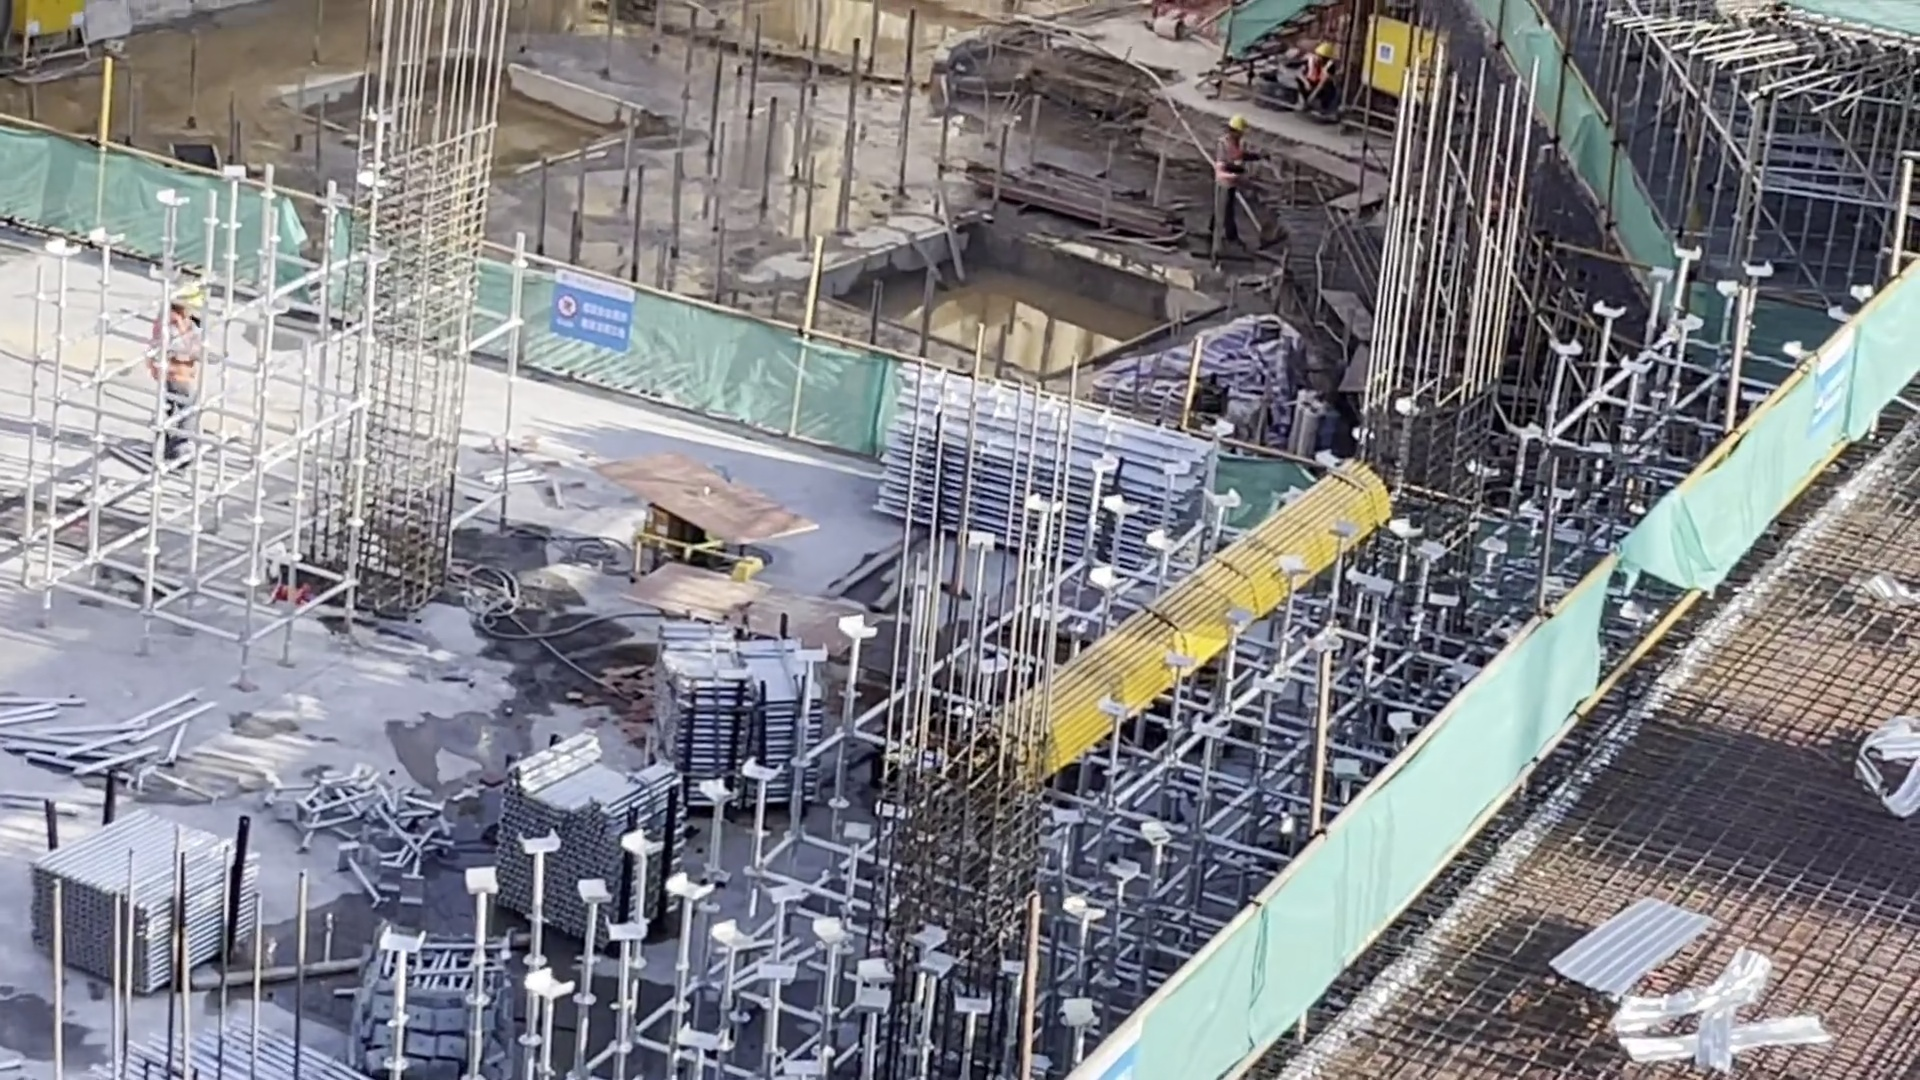cutter: (656, 573, 869, 659), (619, 464, 780, 576)
ebox: (1371, 26, 1439, 111), (25, 1, 91, 56)
helmet: (170, 288, 205, 311), (1321, 46, 1335, 60), (1232, 114, 1242, 131)
person: (152, 287, 201, 448), (1210, 122, 1251, 254), (1282, 39, 1341, 117)
scaffold: (932, 421, 1188, 531), (59, 835, 276, 952), (501, 769, 664, 923), (661, 664, 816, 813), (133, 1026, 354, 1080)
slogan: (542, 276, 632, 343), (1814, 341, 1855, 431)
vest: (155, 321, 193, 383), (1218, 139, 1239, 179), (1305, 62, 1332, 83)
